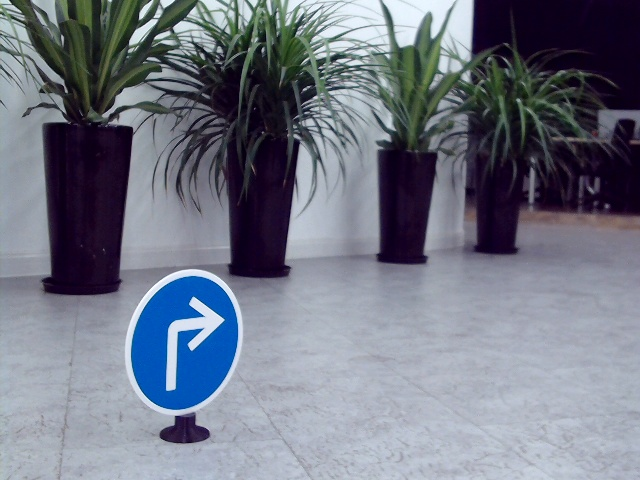turn_right: (152, 297, 222, 391)
